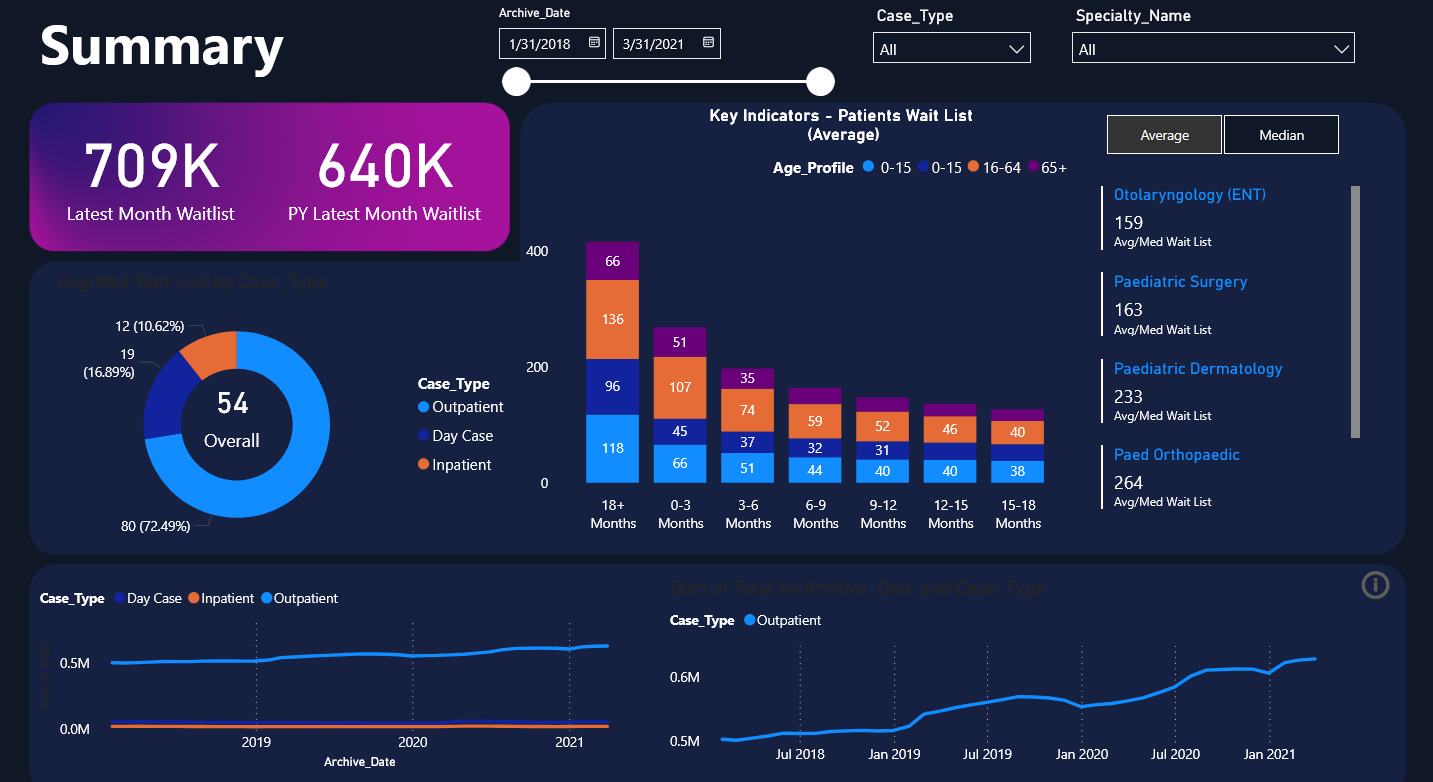

The dashboard page shown, as its layout file describes it:
{"tool":"powerbi","page":{"name":"Summary","canvas":[1280,720],"ordinal":0},"visuals":[{"type":"card","fields":{"Values":["All_Data.Latest Month Waitlist"]},"box":[32,96,208,112],"z":0},{"type":"slicer","fields":{"Values":["Table.CalcMethod"]},"box":[960,96,256,48],"z":1000},{"type":"donutChart","fields":{"Category":["All_Data.Case_Type"],"Y":["All_Data.Avg/Med Waitlist"]},"box":[48,240,416,256],"z":2000},{"type":"columnChart","fields":{"Category":["All_Data.Time_Bands"],"Y":["All_Data.Avg/Med Wait List"],"Series":["All_Data.Age_Profile"]},"box":[464,128,496,352],"z":3000},{"type":"multiRowCard","fields":{"Values":["All_Data.Speciality_Name","All_Data.Avg/Med Wait List"]},"box":[976,160,240,304],"z":4000},{"type":"lineChart","fields":{"Y":["Sum(All_Data.Total)"],"Series":["All_Data.Case_Type"],"Category":["All_Data.Archive_Date"]},"box":[592,512,608,176],"z":5000},{"type":"lineChart","fields":{"Y":["Sum(All_Data.Total)"],"Series":["All_Data.Case_Type"],"Category":["All_Data.Archive_Date"]},"box":[32,512,528,176],"z":6000},{"type":"slicer","fields":{"Values":["All_Data.Archive_Date"]},"box":[432,0,320,96],"z":8000},{"type":"slicer","fields":{"Values":["All_Data.Case_Type"]},"box":[768,0,160,64],"z":9000},{"type":"slicer","fields":{"Values":["All_Data.Specialty_Name"]},"box":[944,0,272,64],"z":10000},{"type":"textbox","box":[32,0,336,112],"z":11000},{"type":"card","fields":{"Values":["All_Data.PY Latest Month Waitlist"]},"box":[240,96,208,112],"z":12000},{"type":"card","fields":{"Values":["All_Data.Avg/Med Wait List"]},"box":[144,320,128,96],"z":13000},{"type":"card","fields":{"Values":["All_Data.Dynamic card"]},"box":[592,80,320,64],"z":14000},{"type":"actionButton","box":[1200,496,48,48],"z":14002}]}

Visuals, with their boxes on the page's 1280x720 design canvas (x1, y1, x2, y2). These are canvas units, not pixel positions in the 1433x782 screenshot, which may show the page scaled, cropped or inside an application window:
card - All_Data.Latest Month Waitlist: [32,96,240,208]
slicer - Table.CalcMethod: [960,96,1216,144]
donutChart - All_Data.Case_Type x All_Data.Avg/Med Waitlist: [48,240,464,496]
columnChart - All_Data.Time_Bands x All_Data.Avg/Med Wait List: [464,128,960,480]
multiRowCard - All_Data.Speciality_Name x All_Data.Avg/Med Wait List: [976,160,1216,464]
lineChart - Sum(All_Data.Total) x All_Data.Case_Type: [592,512,1200,688]
lineChart - Sum(All_Data.Total) x All_Data.Case_Type: [32,512,560,688]
slicer - All_Data.Archive_Date: [432,0,752,96]
slicer - All_Data.Case_Type: [768,0,928,64]
slicer - All_Data.Specialty_Name: [944,0,1216,64]
textbox: [32,0,368,112]
card - All_Data.PY Latest Month Waitlist: [240,96,448,208]
card - All_Data.Avg/Med Wait List: [144,320,272,416]
card - All_Data.Dynamic card: [592,80,912,144]
actionButton: [1200,496,1248,544]
